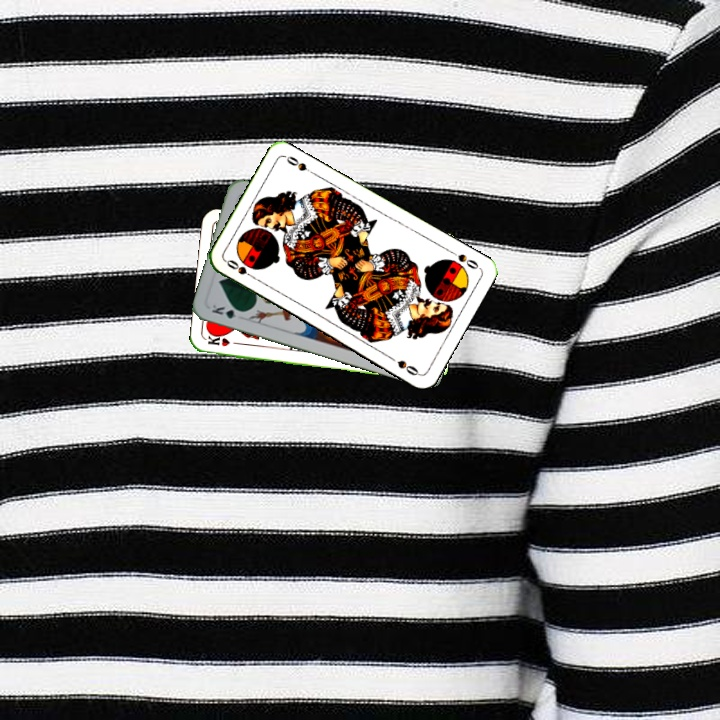GK: (207, 300, 247, 322)
HK: (204, 333, 245, 349)
SO: (222, 255, 259, 282), (445, 246, 482, 272)
